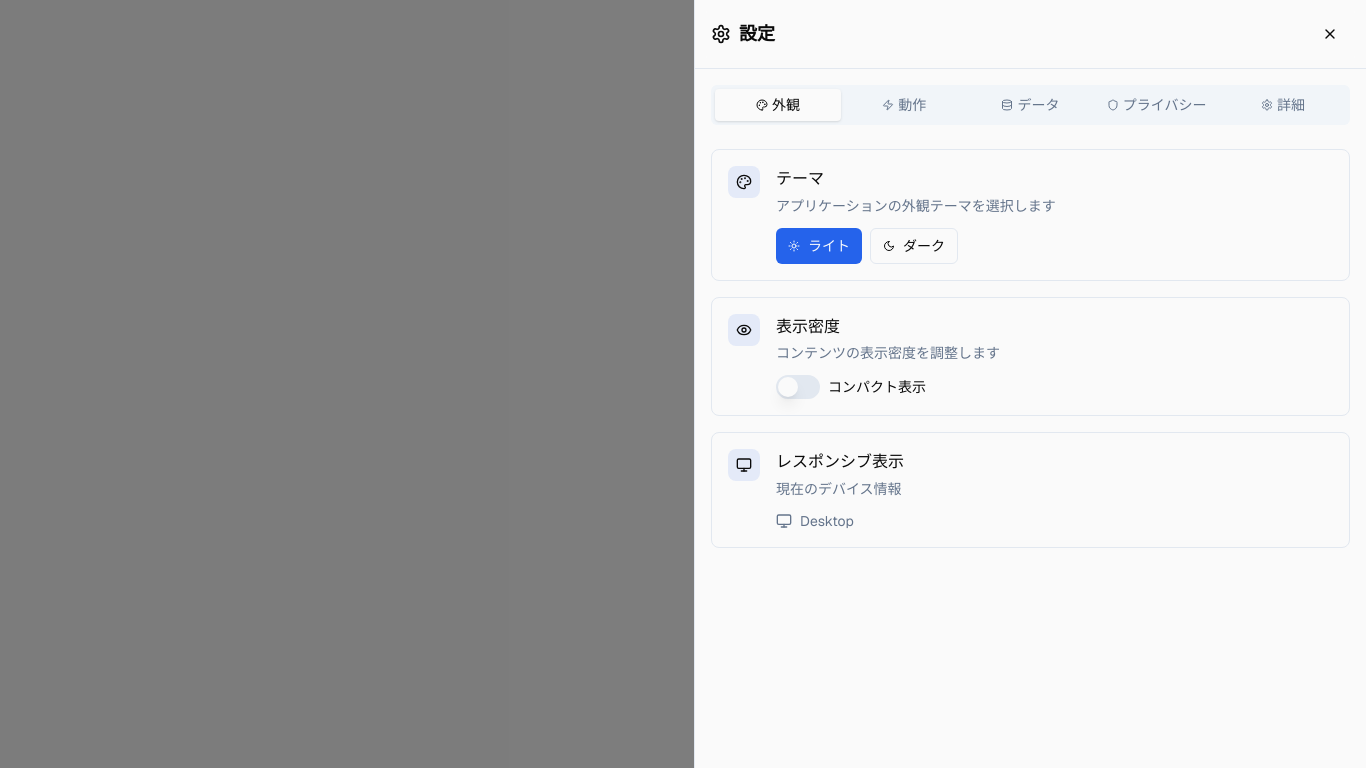
Test: SettingsPanel › タブ切り替え › 動作タブに切り替えできる
Click the tab "動作": point(904, 105) [841,89,967,121]
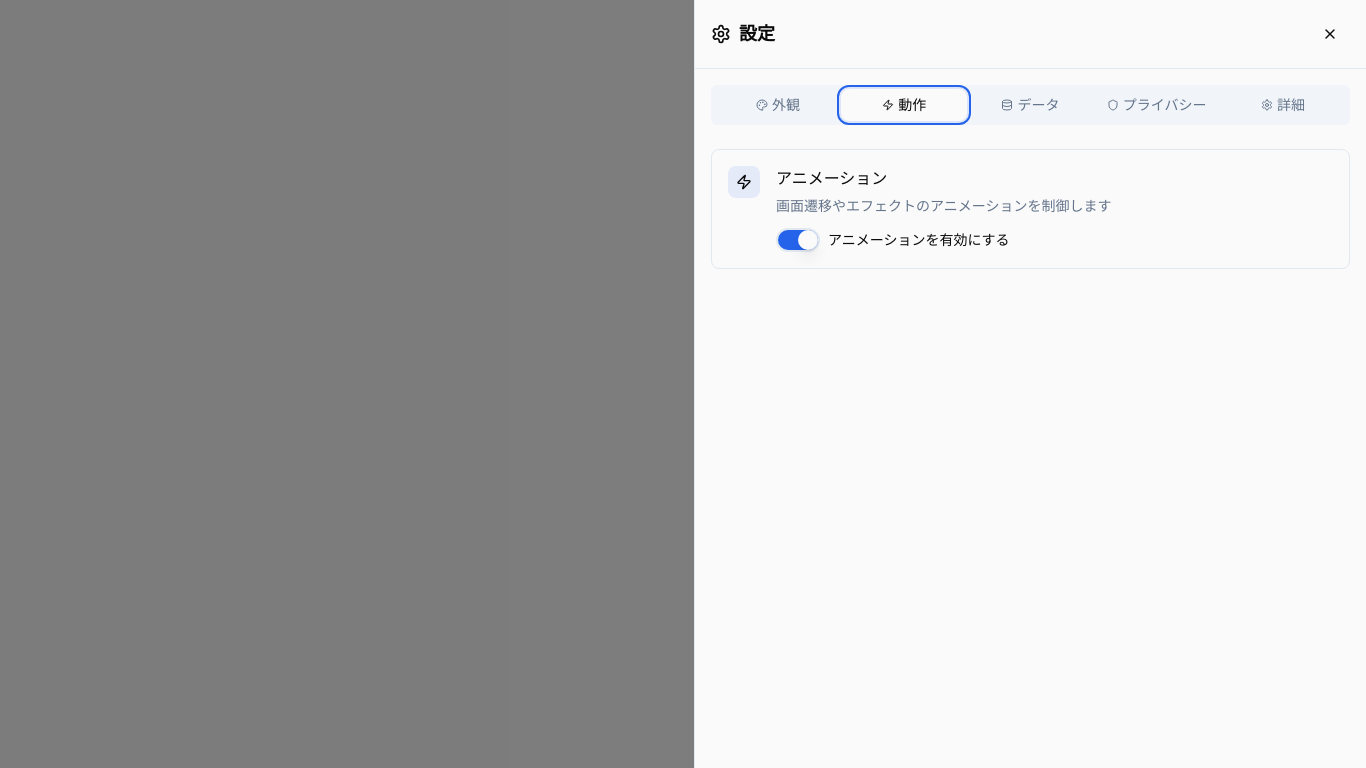
expect the heading "アニメーション" is shown: met, box [776,166,887,192]
